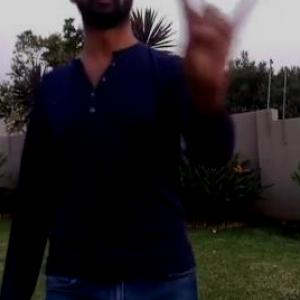takeoff-hand: (166, 0, 260, 101)
